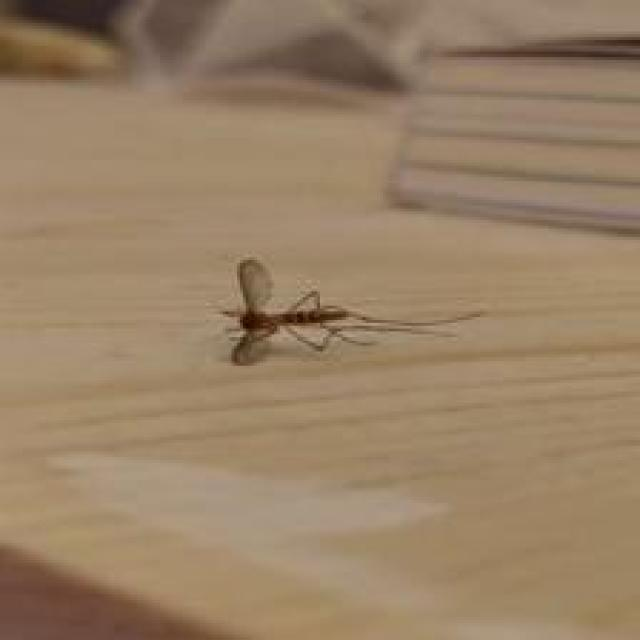Culex: (216, 256, 484, 364)
